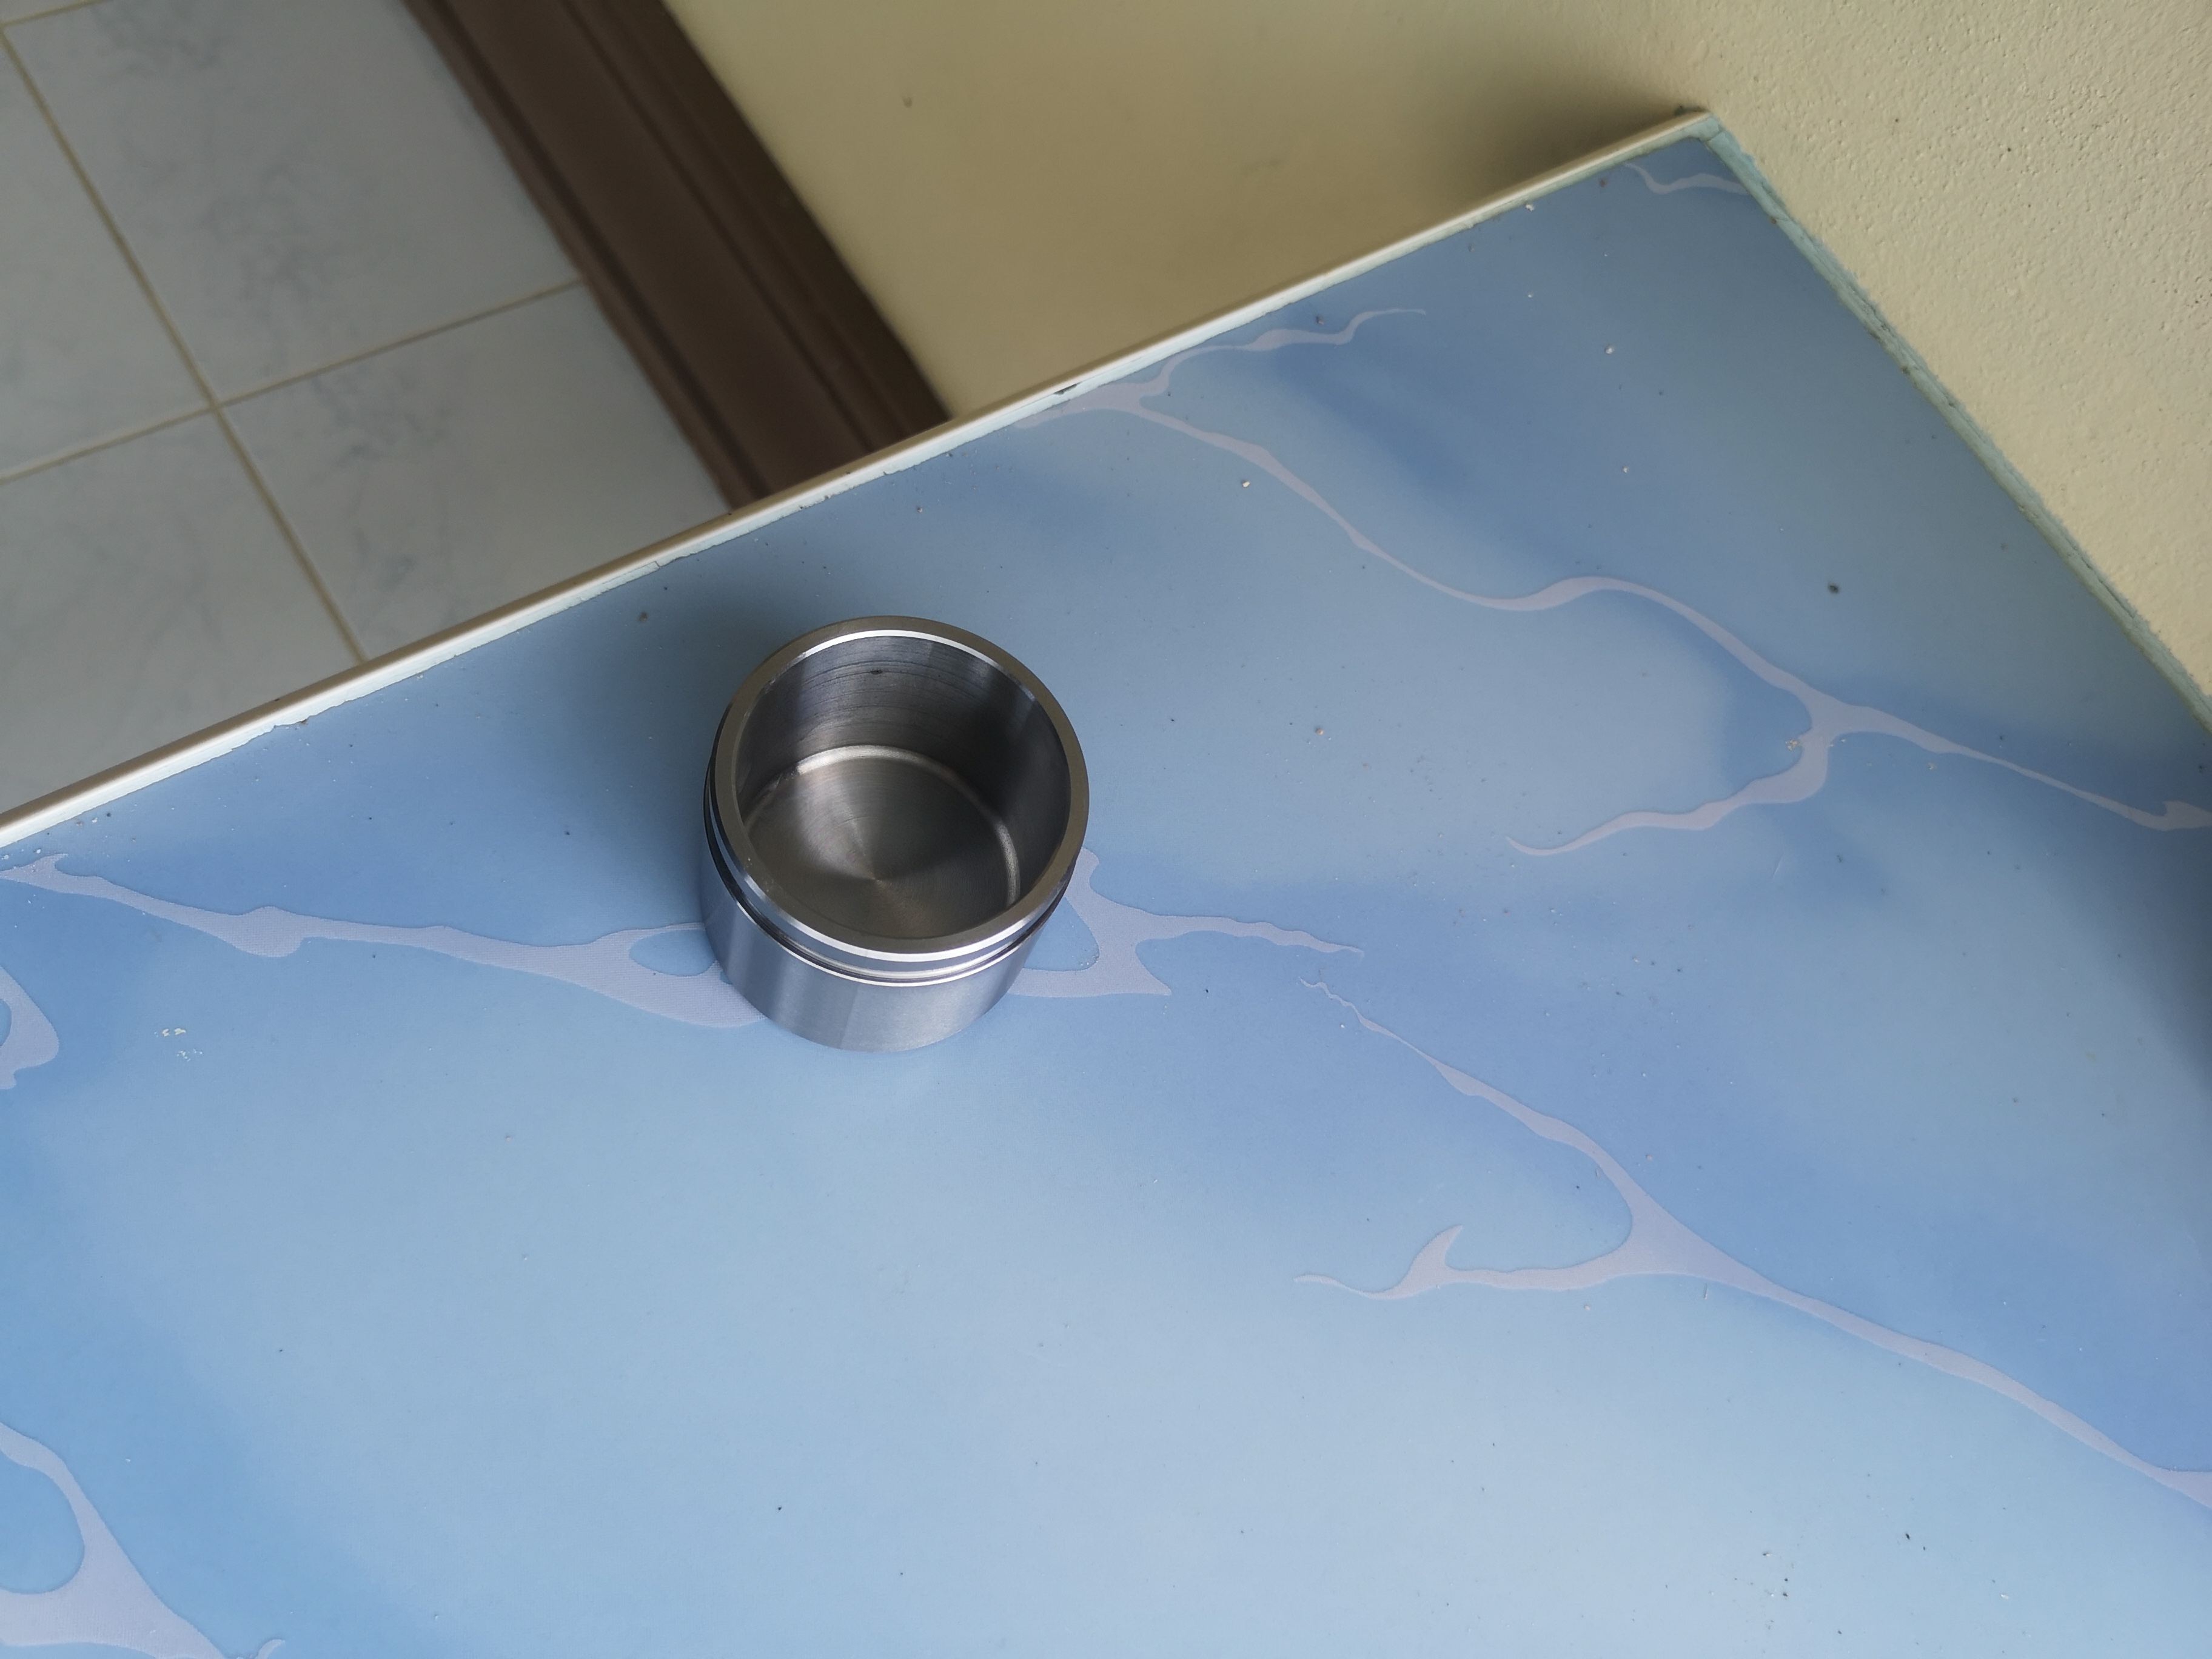ลูกสูบดิสเบรค: (658, 601, 1125, 1068)
